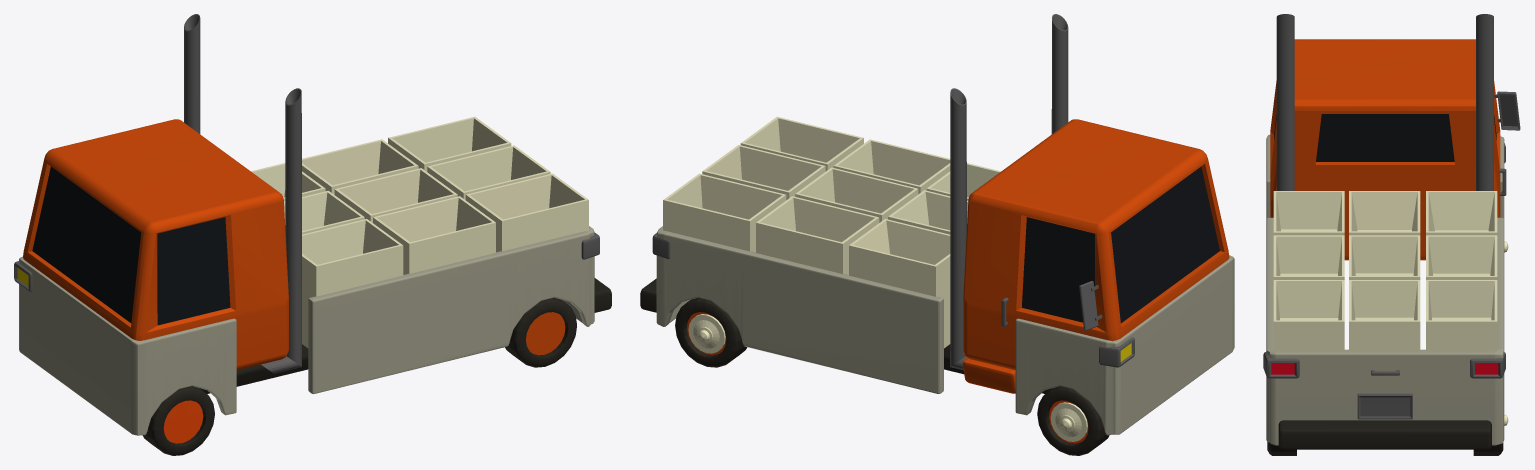
The model's file is mesh_farmtuck.fbx.
3 renders of one model, left to right at view 1: azimuth 30°, elevation 25°; view 2: azimuth 150°, elevation 25°; view 3: azimuth 270°, elevation 25°, orthographic.
Visible parts, largest first — view 1: mesh_farmtruck; view 2: mesh_farmtruck; view 3: mesh_farmtruck.
Boxes of the visible parts, x1,y1,x2,y2 form: mesh_farmtruck: (14,14,611,455); mesh_farmtruck: (640,14,1234,455); mesh_farmtruck: (1263,14,1520,455).
Bounding box in the file's own units: 5.4 × 3.51 × 2.52.
